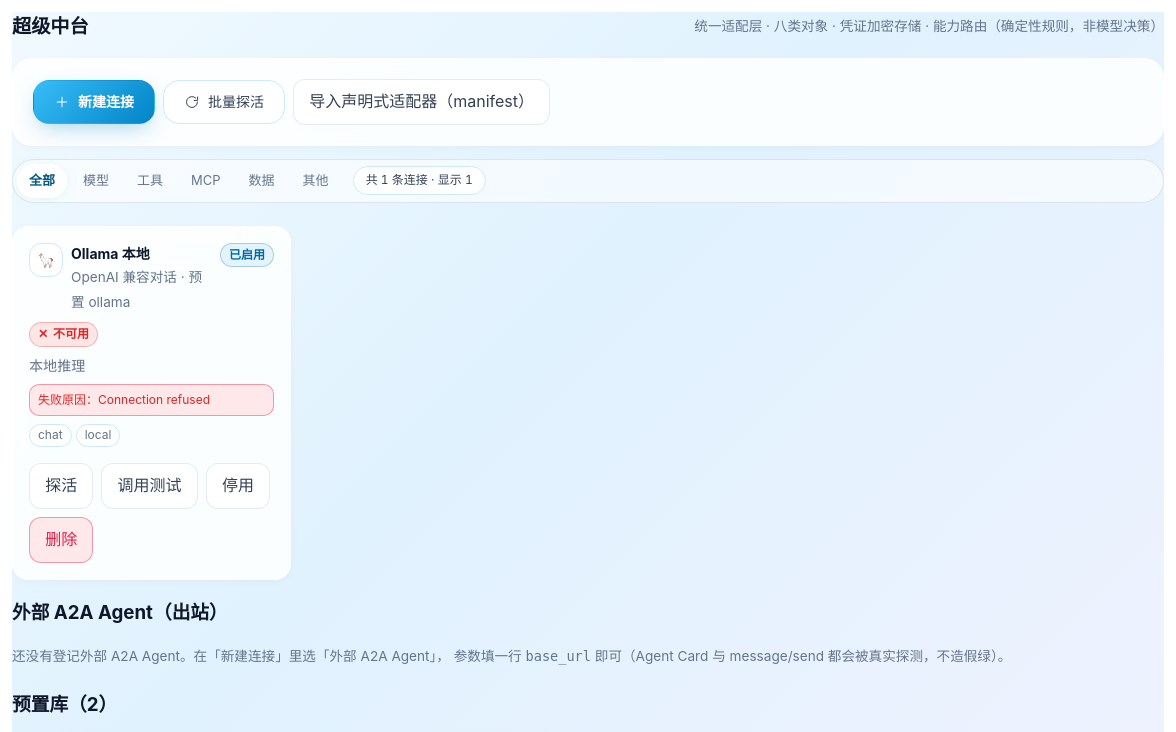
Test: HubPage › 探活失败时展示后端给的真实原因，不美化
Check: the element with test id "hub-card-c1" is shown, box [12,226,291,580]
Check: the text with test id "hub-health-detail" shows "Connection refused", box [98,392,210,407]
Click the button "探活" at (61, 486), box [29,463,93,509]
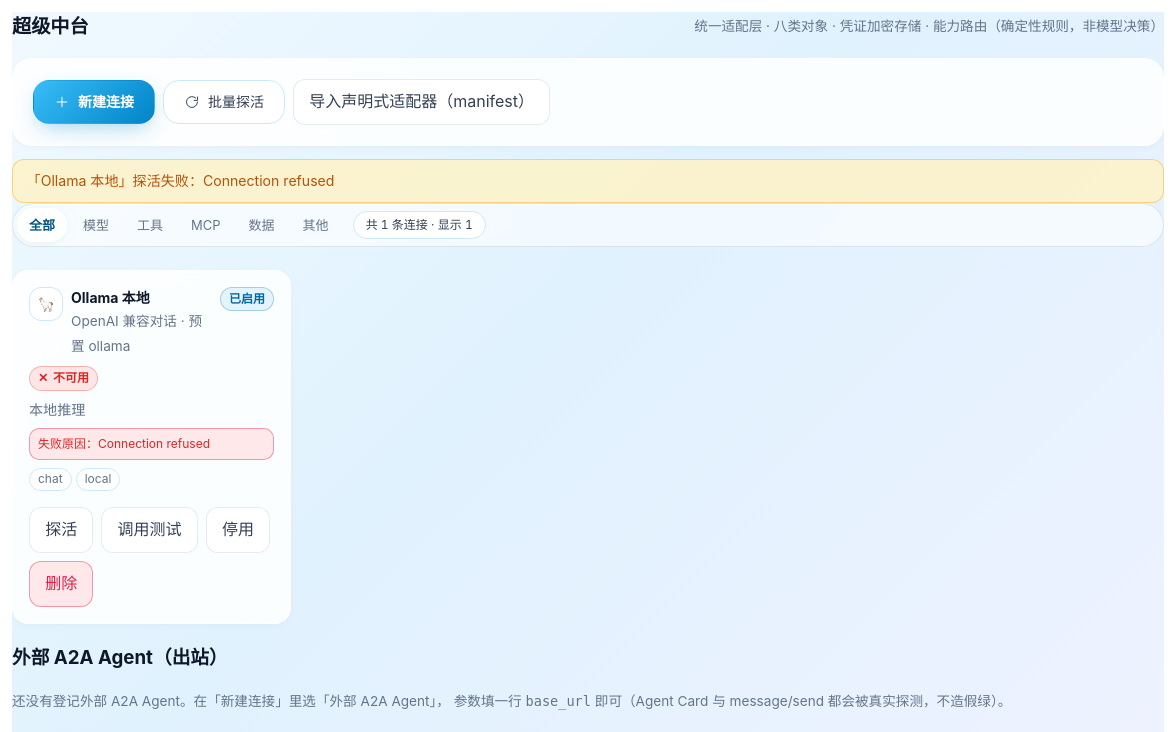
Check: the text with test id "hub-notice" shows "Connection refused", box [27,172,334,189]
